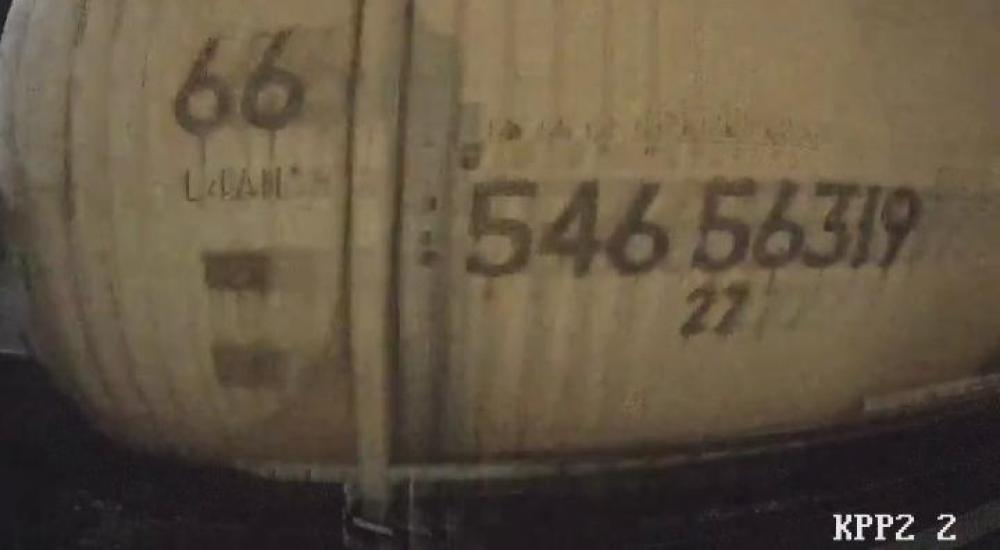Wagon-number: (461, 173, 927, 284)
